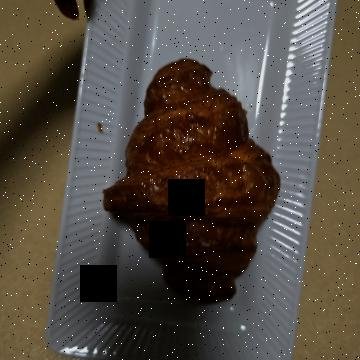croissant: (49, 78, 314, 272)
